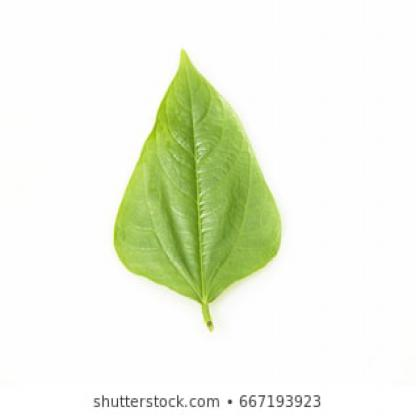soybean leaf: (108, 45, 289, 334)
